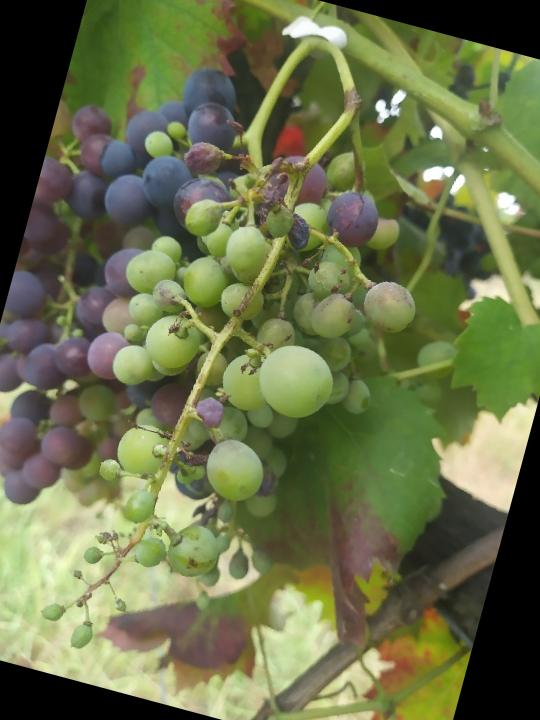grape: (24, 114, 453, 715)
